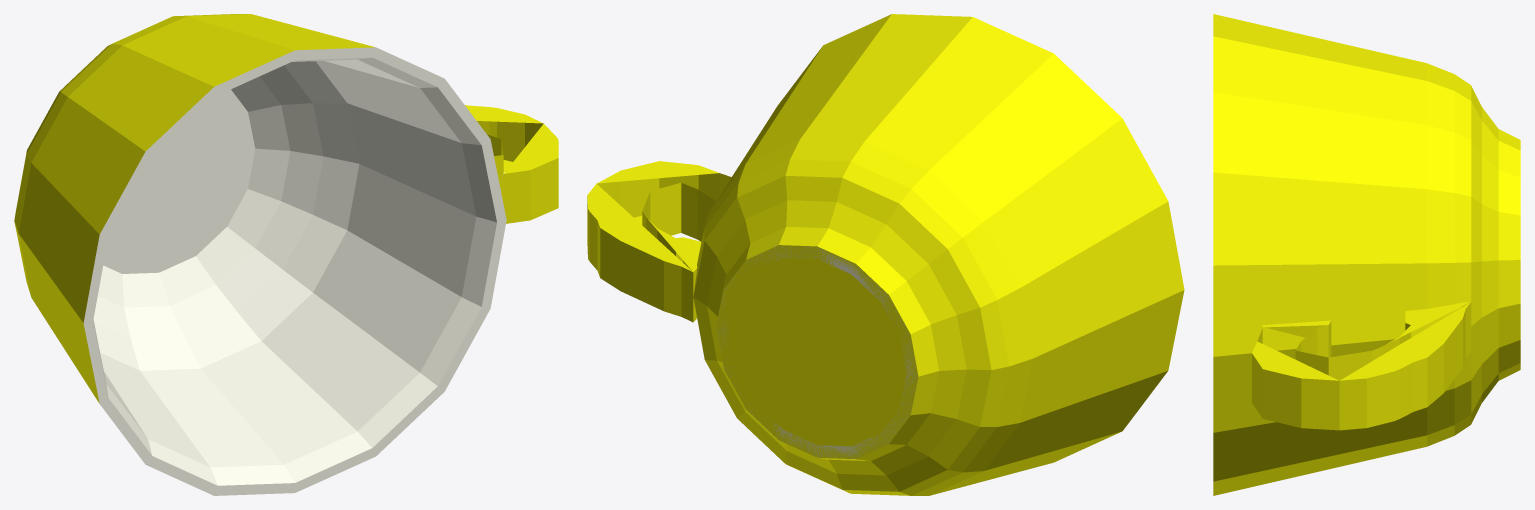
File: nil_link_mesh.dae
3 renders of one model, left to right at view 1: azimuth 30°, elevation 25°; view 2: azimuth 150°, elevation 25°; view 3: azimuth 270°, elevation 25°, orthographic.
Parts seen in each view (by area): view 1: nil_link (×3); view 2: nil_link (×3); view 3: nil_link (×2).
Part boxes in pixels (<box>): nil_link (×3): <box>14,14,558,495</box>; nil_link (×3): <box>587,14,1184,495</box>; nil_link (×2): <box>1213,14,1520,495</box>.
Bounding box in the file's own units: 0.109 × 0.088 × 0.056.
